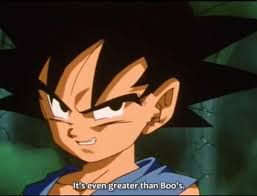Songoku: (36, 40, 179, 165)
